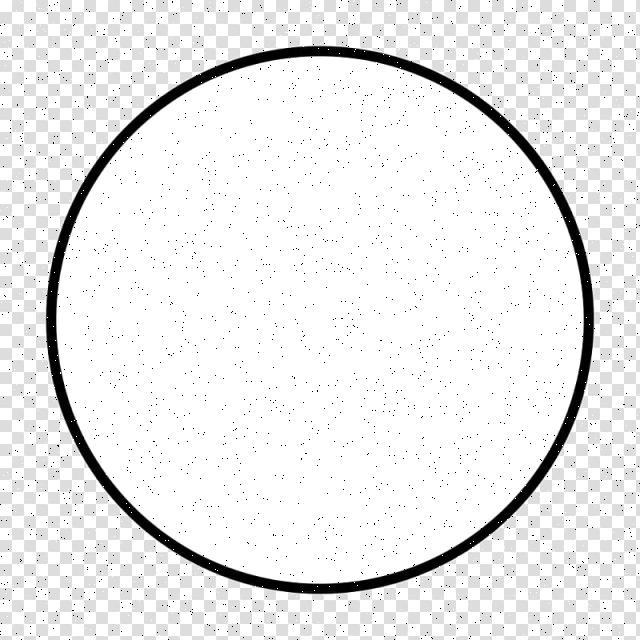Circle: (27, 39, 604, 601)
